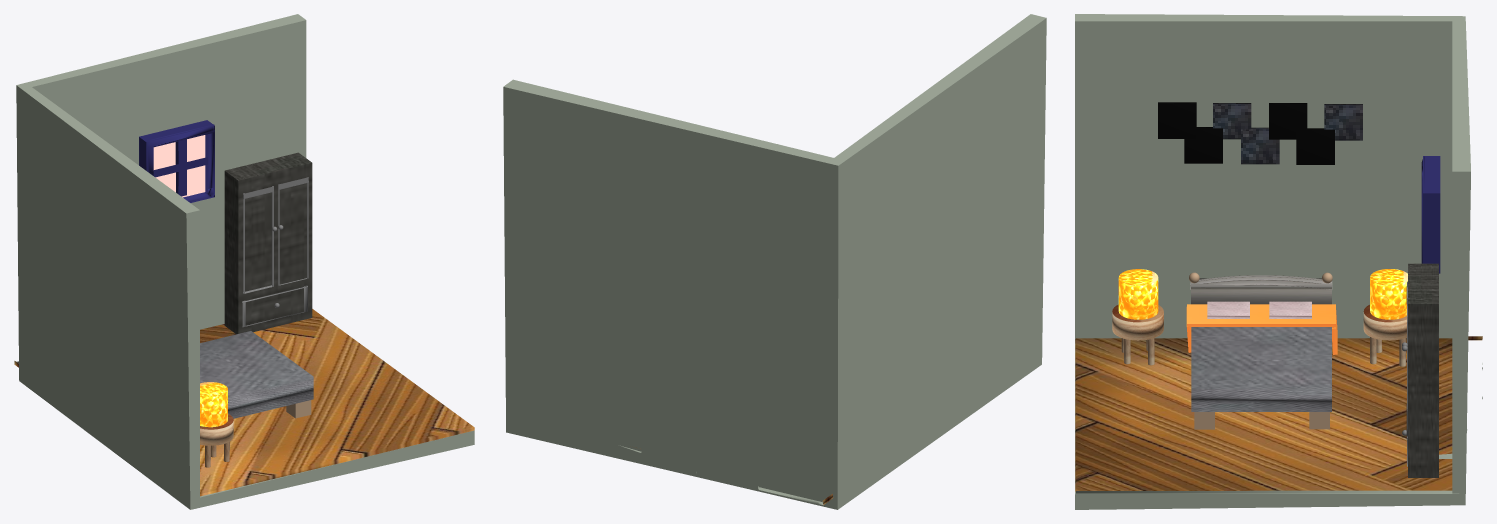
The model's file is myhomeFinalOne.glb.
3 views of the same model, side by side, from view 1: azimuth 30°, elevation 25°; view 2: azimuth 150°, elevation 25°; view 3: azimuth 270°, elevation 25° (orthographic). The views are drawn at different scales.
Parts seen in each view (by area): view 1: Cube.028, Cube.001, Cube.016, Cube.002, Cube.027, Cube.014, Cylinder.005, Cube.015, Cube.013, Cube.017, Cylinder, Cube.018; view 2: Cube.028; view 3: Cube.028, Cube.001, Cube.002, Cube.016, Cube.007, Cube.009, Cube.013, Cylinder.005, Cylinder.011, Cube.020, Cube.025, Cube.024 (+9 smaller).
Part boxes in pixels (x1,y1,x2,y2): Cube.028: [16, 14, 474, 509]; Cube.001: [14, 309, 474, 496]; Cube.016: [224, 152, 312, 334]; Cube.002: [200, 331, 313, 418]; Cube.027: [153, 135, 205, 197]; Cube.014: [139, 124, 214, 201]; Cylinder.005: [200, 382, 227, 427]; Cube.015: [153, 139, 207, 196]; Cube.013: [139, 120, 214, 202]; Cube.017: [243, 186, 273, 293]; Cylinder: [200, 413, 233, 445]; Cube.018: [278, 177, 308, 285]; Cube.028: [503, 14, 1046, 509]; Cube.028: [1075, 14, 1470, 509]; Cube.001: [1075, 336, 1482, 494]; Cube.002: [1191, 327, 1331, 411]; Cube.016: [1408, 263, 1438, 477]; Cube.007: [1191, 278, 1331, 304]; Cube.009: [1187, 304, 1335, 327]; Cube.013: [1423, 156, 1440, 273]; Cylinder.005: [1118, 269, 1158, 319]; Cylinder.011: [1370, 269, 1407, 319]; Cube.020: [1158, 102, 1196, 138]; Cube.025: [1296, 128, 1334, 164]; Cube.024: [1269, 103, 1307, 139].
Bounding box in the file's own units: 7.81 × 7.8 × 8.52.
Materials: 46 (25 with a texture image).
